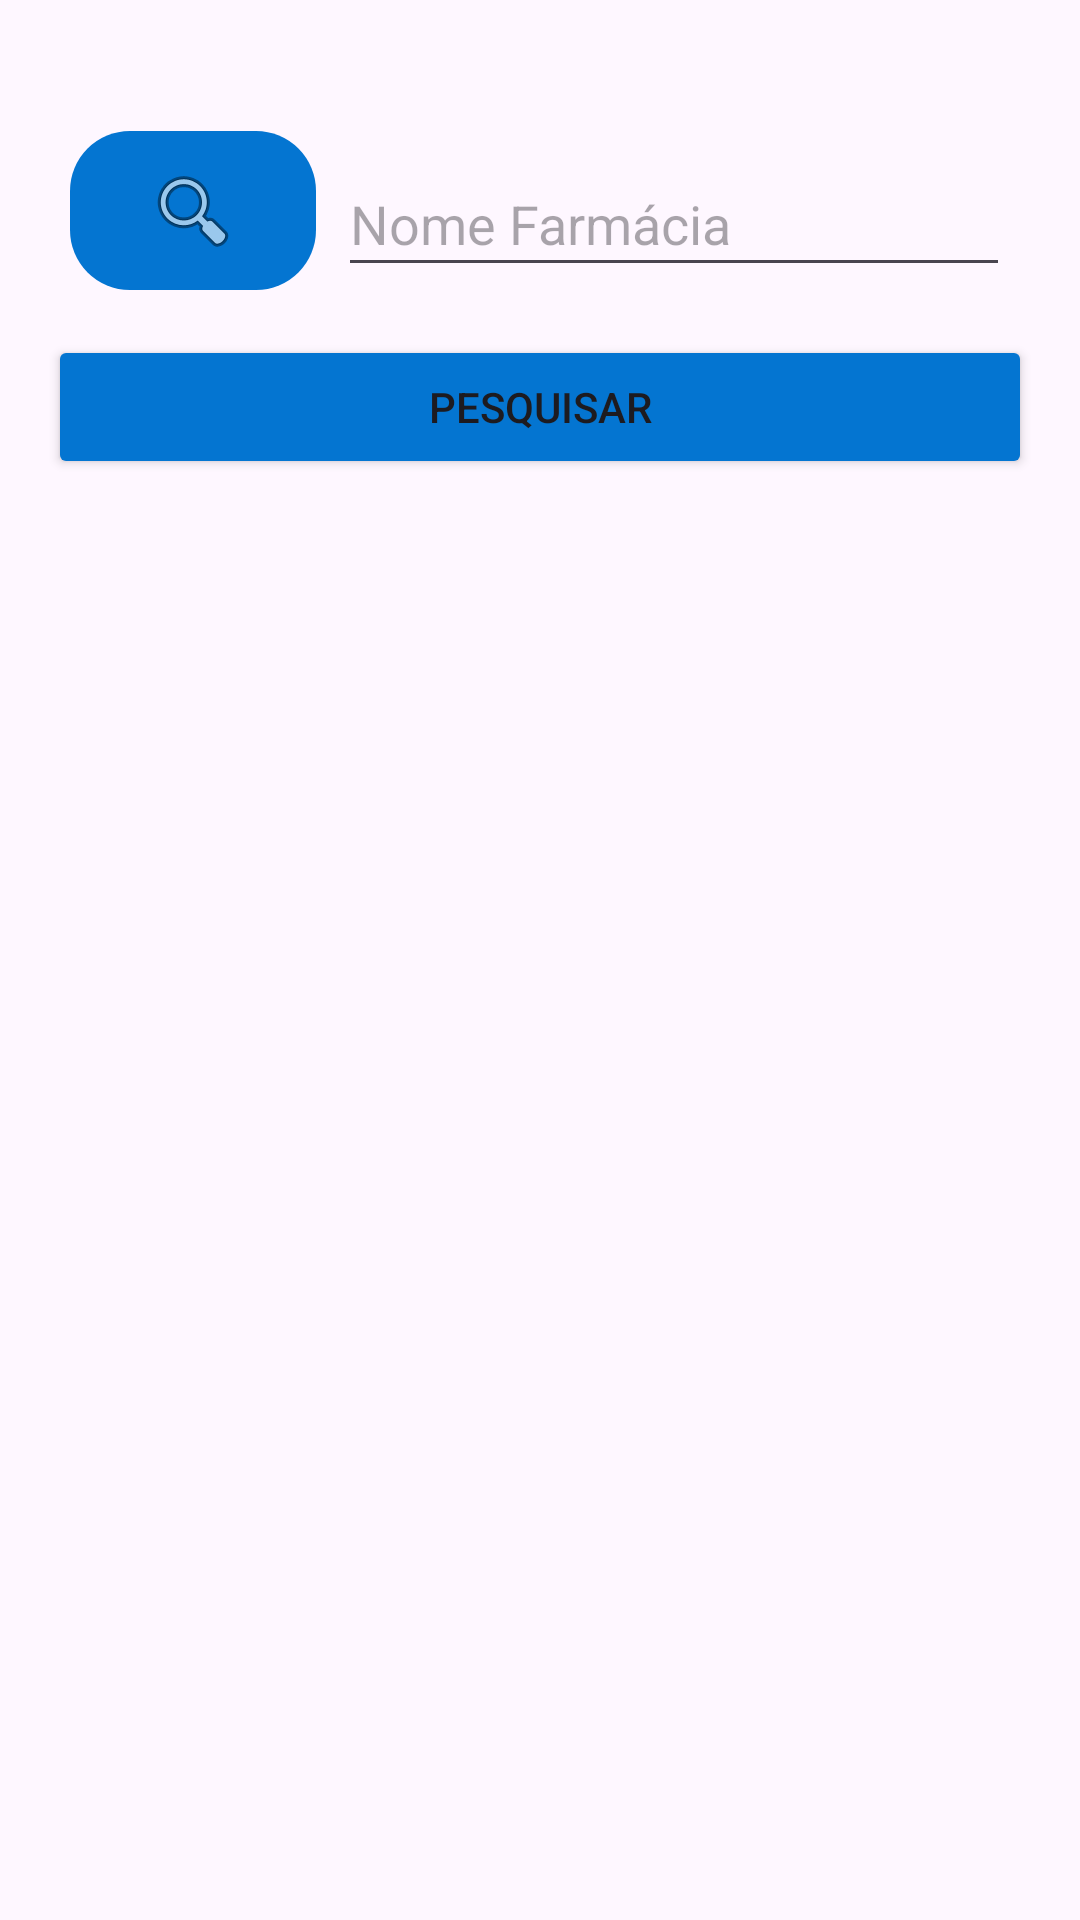

Locate icon controls on the screen. Image size 1080*1920, boxes as bbox=(x1, y1, x2, y2).
search: bbox=(70, 131, 316, 290)
